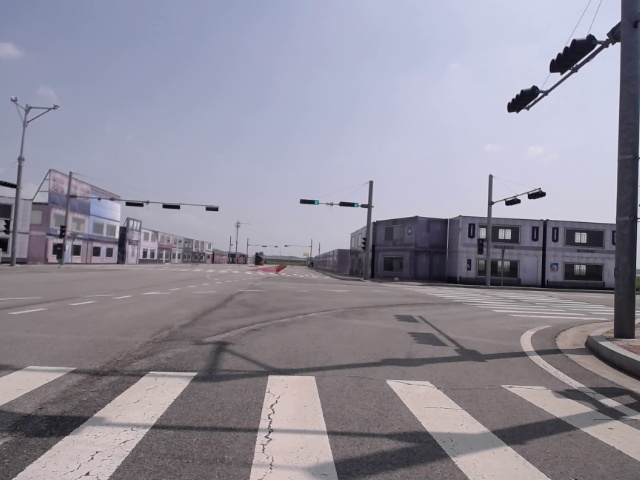straight_green_4: (339, 202, 359, 208), (301, 200, 319, 205)
